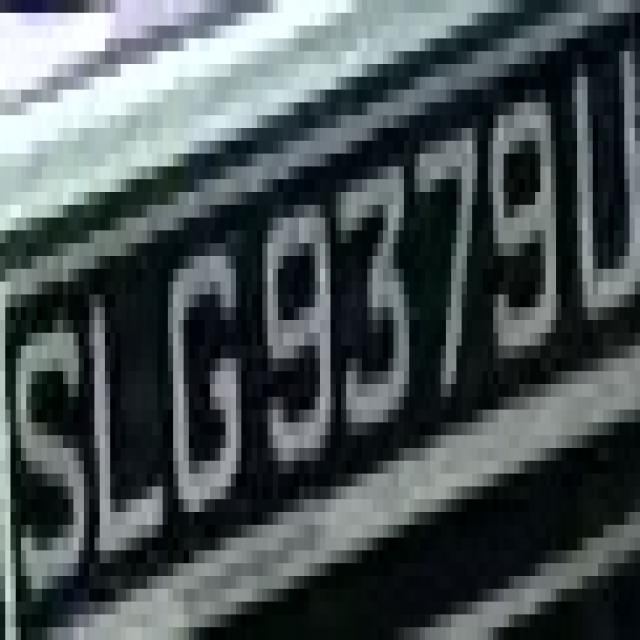3: (320, 141, 414, 461)
7: (399, 77, 488, 435)
9: (247, 179, 336, 499), (472, 64, 567, 358)
G: (147, 205, 246, 538)
L: (84, 256, 168, 589)
S: (5, 294, 89, 602)
U: (566, 38, 640, 371)
